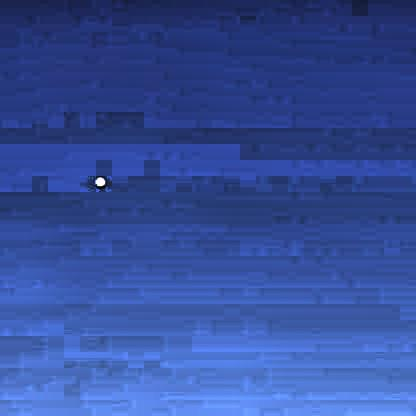golfball: (92, 172, 106, 186)
